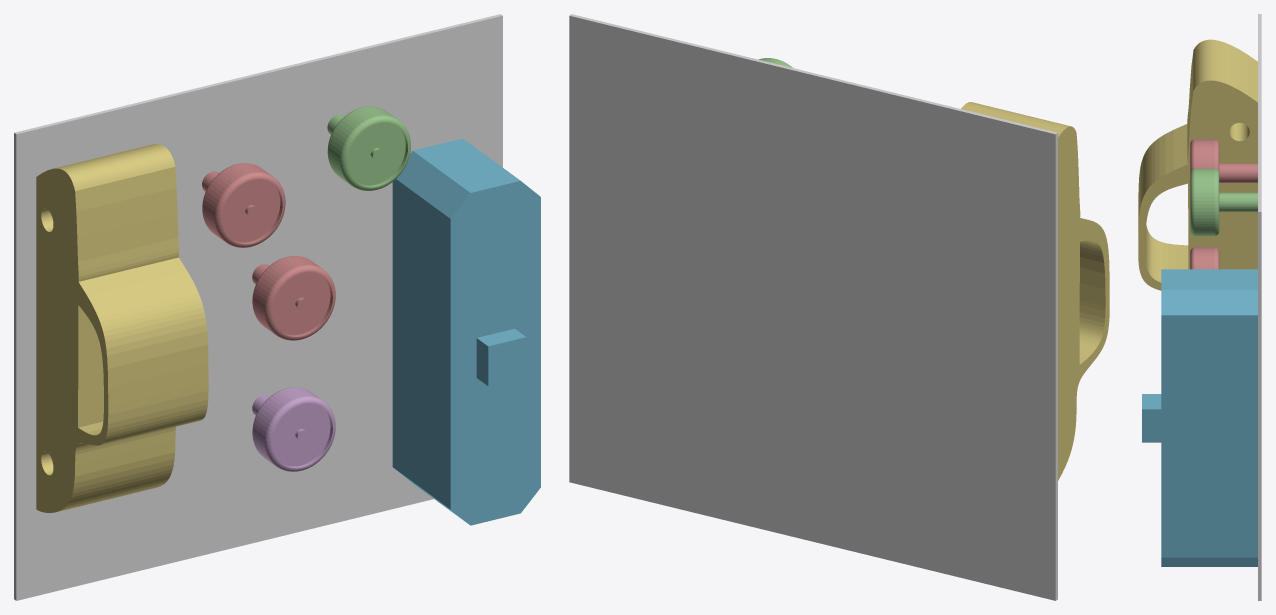
The model's file is pickup_layout.glb.
3 views of the same model, side by side, from view 1: azimuth 30°, elevation 25°; view 2: azimuth 150°, elevation 25°; view 3: azimuth 270°, elevation 25° (orthographic). The views are drawn at different scales.
Parts seen in each view (by area): view 1: world, 1.obj, 2.obj, 5.obj, 3.obj, 0.obj, 4.obj; view 2: world, 1.obj; view 3: 2.obj, 1.obj, 4.obj, world, 5.obj, 0.obj.
Boxes of the visible parts, box(x1,y1,x2,y2) form: world: box(14, 14, 502, 600); 1.obj: box(36, 144, 208, 512); 2.obj: box(392, 138, 540, 525); 5.obj: box(202, 163, 285, 247); 3.obj: box(252, 387, 335, 471); 0.obj: box(252, 256, 335, 340); 4.obj: box(327, 106, 410, 190); world: box(569, 14, 1057, 600); 1.obj: box(961, 102, 1109, 480); 2.obj: box(1142, 269, 1257, 566); 1.obj: box(1138, 39, 1257, 290); 4.obj: box(1190, 168, 1257, 236); world: box(1258, 14, 1261, 600); 5.obj: box(1190, 139, 1257, 182); 0.obj: box(1190, 247, 1219, 269).
Size of the model in its own units: 24.25 by 22.22 by 6.39.
